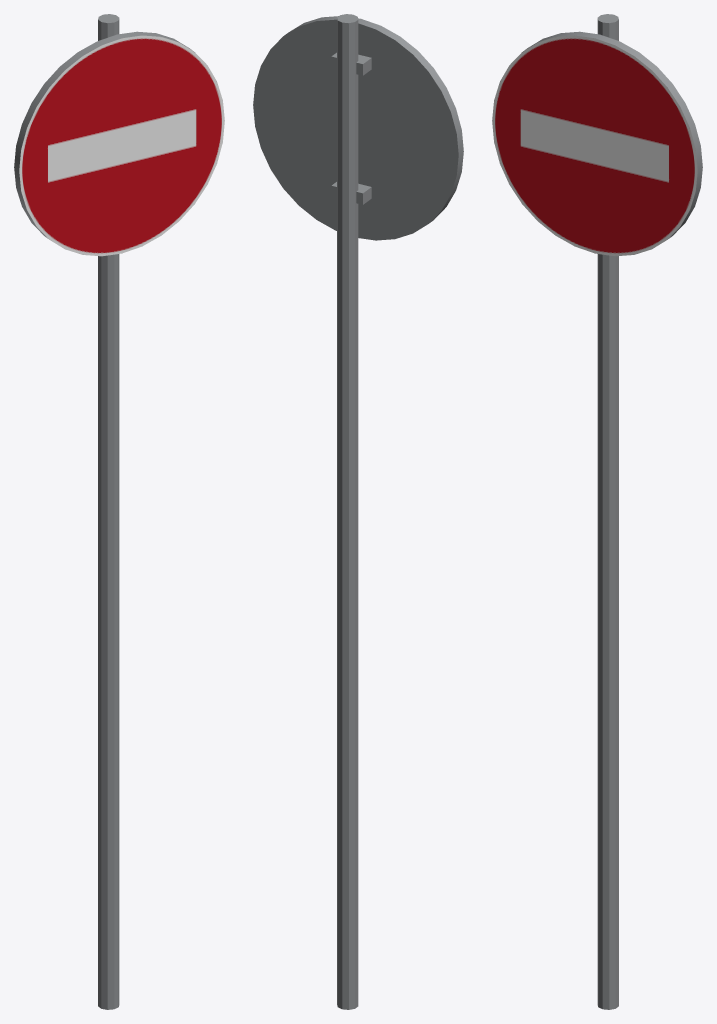
File: sign-no-entry.glb
3 renders of one model, left to right at view 1: azimuth 30°, elevation 25°; view 2: azimuth 150°, elevation 25°; view 3: azimuth 330°, elevation 25°, orthographic.
Visible parts, largest first — view 1: sign-no-entry; view 2: sign-no-entry; view 3: sign-no-entry.
Boxes of the visible parts, left/top/right/bottom form: sign-no-entry: left=14, top=14, right=224, bottom=1009; sign-no-entry: left=253, top=14, right=463, bottom=1009; sign-no-entry: left=492, top=14, right=702, bottom=1009.
Size of the model in its own units: 0.65 by 2.98 by 0.103.
1 material, 1 textured.
